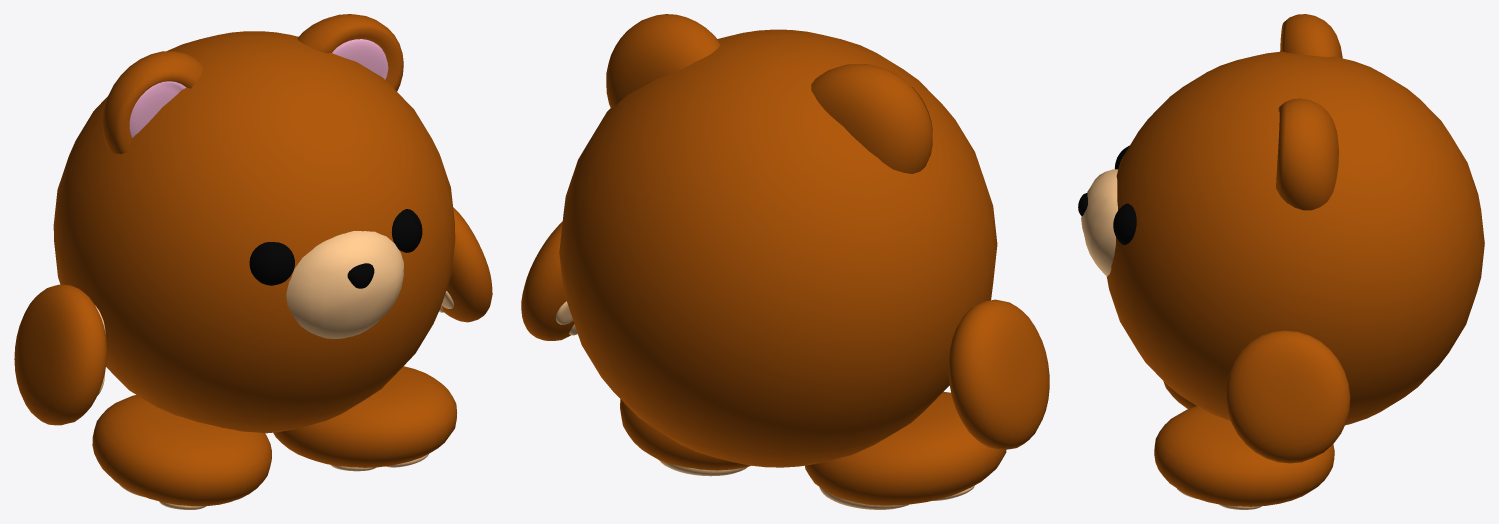
The model's file is bear.glb.
3 views of the same model, side by side, from view 1: azimuth 30°, elevation 25°; view 2: azimuth 150°, elevation 25°; view 3: azimuth 270°, elevation 25° (orthographic). The views are drawn at different scales.
Visible parts, largest first — view 1: body, hand.016, hand.017, hand.002, hand.003, ear.001, hand.012, ear.02, eye.01, ear.007, ear.006, eye.02; view 2: body, hand.002, hand.016, ear.001, ear.02, hand.012, hand.017; view 3: body, hand.012, hand.017, ear.02, hand.003, ear.001, eye.02.
Part boxes in pixels (left/top/right/bottom): body: left=53, top=31, right=455, bottom=433; hand.016: left=92, top=395, right=271, bottom=506; hand.017: left=273, top=366, right=456, bottom=467; hand.002: left=14, top=284, right=106, bottom=425; hand.003: left=286, top=231, right=403, bottom=338; ear.001: left=102, top=51, right=202, bottom=154; hand.012: left=441, top=207, right=492, bottom=322; ear.02: left=297, top=14, right=403, bottom=91; eye.01: left=249, top=242, right=294, bottom=285; ear.007: left=129, top=81, right=186, bottom=137; ear.006: left=332, top=39, right=388, bottom=79; eye.02: left=391, top=209, right=422, bottom=252; body: left=559, top=29, right=997, bottom=467; hand.002: left=948, top=299, right=1049, bottom=449; hand.016: left=805, top=391, right=1006, bottom=505; ear.001: left=811, top=64, right=932, bottom=173; ear.02: left=606, top=14, right=720, bottom=108; hand.012: left=521, top=221, right=574, bottom=340; hand.017: left=620, top=399, right=750, bottom=470; body: left=1106, top=51, right=1484, bottom=425; hand.012: left=1225, top=330, right=1350, bottom=463; hand.017: left=1154, top=406, right=1334, bottom=506; ear.02: left=1276, top=98, right=1338, bottom=210; hand.003: left=1081, top=169, right=1117, bottom=276; ear.001: left=1280, top=14, right=1342, bottom=58; eye.02: left=1113, top=203, right=1136, bottom=244.
Size of the model in its own units: 2.59 by 2.29 by 2.13.
